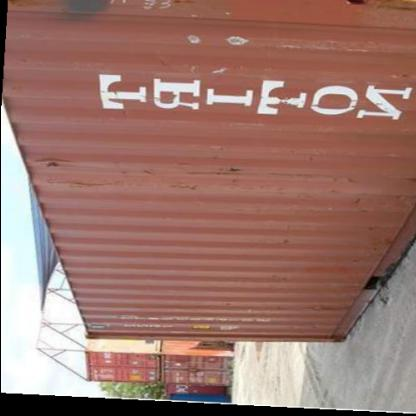Damage: (124, 154, 264, 194), (148, 57, 236, 84), (34, 158, 90, 194), (174, 26, 246, 51), (300, 299, 346, 325), (270, 228, 298, 250)
